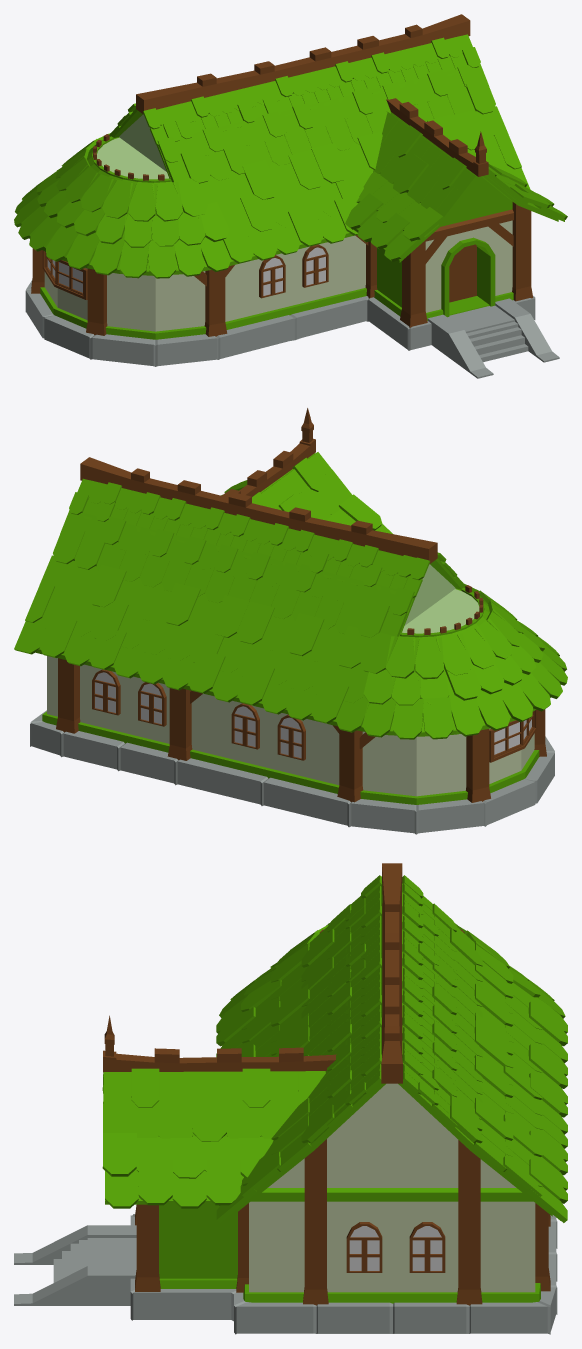
Rendered from SM_hous_03_A.gltf.
3 views of the same model, one above another, from view 1: azimuth 30°, elevation 25°; view 2: azimuth 150°, elevation 25°; view 3: azimuth 270°, elevation 25° (orthographic). The views are drawn at different scales.
Parts seen in each view (by area): view 1: SM_hous_03_A; view 2: SM_hous_03_A; view 3: SM_hous_03_A.
Boxes of the visible parts, x1,y1,x2,y2 form: SM_hous_03_A: [14, 14, 567, 378]; SM_hous_03_A: [14, 408, 567, 834]; SM_hous_03_A: [14, 863, 567, 1334].
Bounding box in the file's own units: 15.1 × 7.43 × 13.22.
